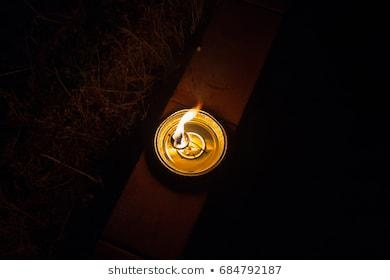fire: (173, 101, 199, 134)
